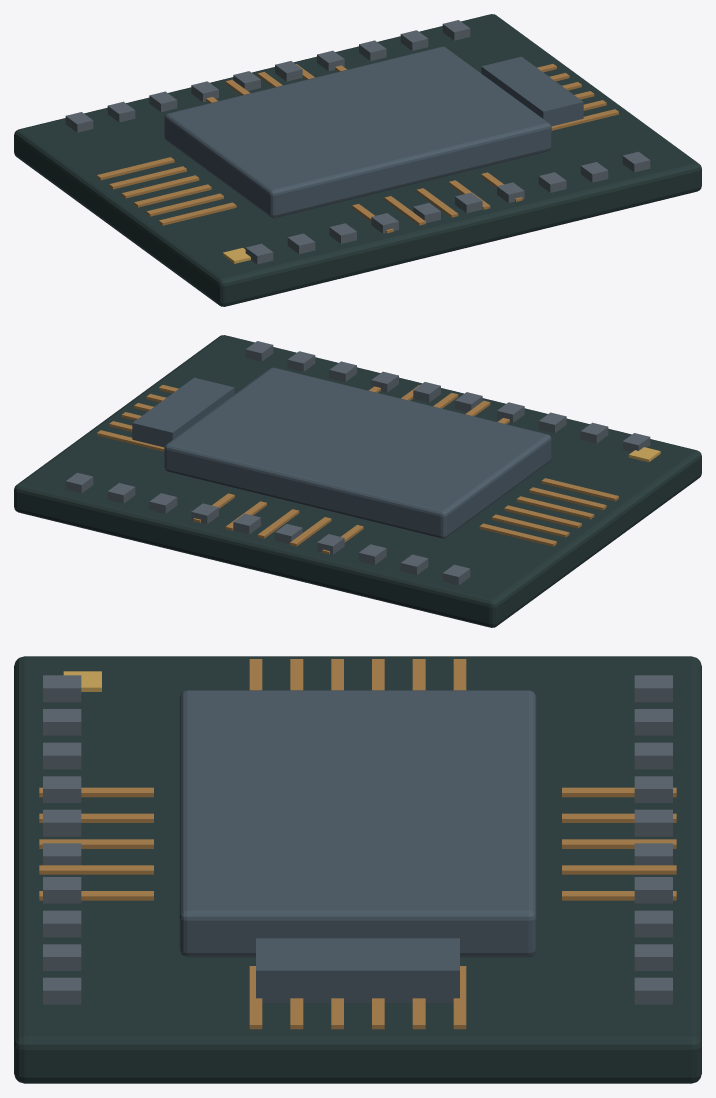
The model's file is cpu-mobile.glb.
3 renders of one model, top to bottom at view 1: azimuth 30°, elevation 25°; view 2: azimuth 150°, elevation 25°; view 3: azimuth 270°, elevation 25°, orthographic. The views are drawn at different scales.
Visible parts, largest first — view 1: CPU_PCB_Deep_Slate, CPU_Silicon, CPU_Metal_Dark_Steel, CPU_Trace_Copper; view 2: CPU_PCB_Deep_Slate, CPU_Silicon, CPU_Metal_Dark_Steel, CPU_Trace_Copper; view 3: CPU_PCB_Deep_Slate, CPU_Silicon, CPU_Metal_Dark_Steel, CPU_Trace_Copper.
Part boxes in pixels (x1=…): CPU_PCB_Deep_Slate: x1=14, y1=14, x2=701, y2=306; CPU_Silicon: x1=164, y1=46, x2=583, y2=217; CPU_Metal_Dark_Steel: x1=65, y1=20, x2=650, y2=264; CPU_Trace_Copper: x1=97, y1=64, x2=618, y2=233; CPU_PCB_Deep_Slate: x1=14, y1=335, x2=701, y2=627; CPU_Silicon: x1=132, y1=367, x2=551, y2=538; CPU_Metal_Dark_Steel: x1=65, y1=341, x2=650, y2=585; CPU_Trace_Copper: x1=97, y1=385, x2=618, y2=554; CPU_PCB_Deep_Slate: x1=14, y1=656, x2=701, y2=1083; CPU_Silicon: x1=179, y1=690, x2=536, y2=1002; CPU_Metal_Dark_Steel: x1=43, y1=675, x2=672, y2=1004; CPU_Trace_Copper: x1=39, y1=659, x2=676, y2=1029.
Size of the model in its own units: 0.036 by 0.0043 by 0.027.
